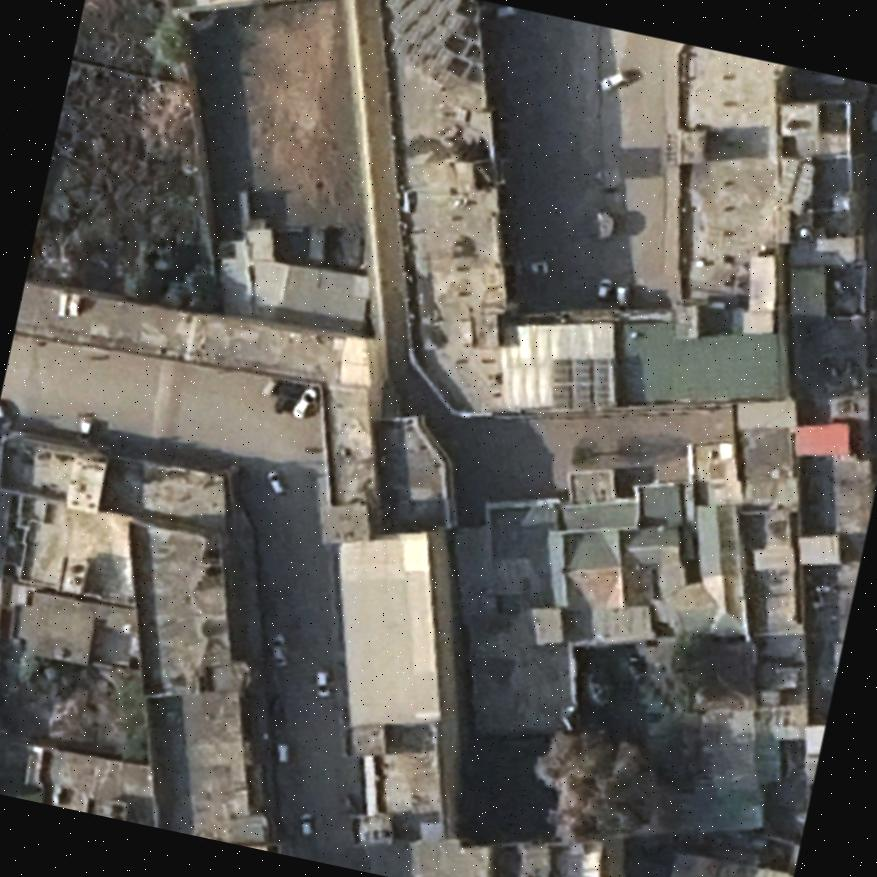Solarpanel: (540, 344, 622, 422)
